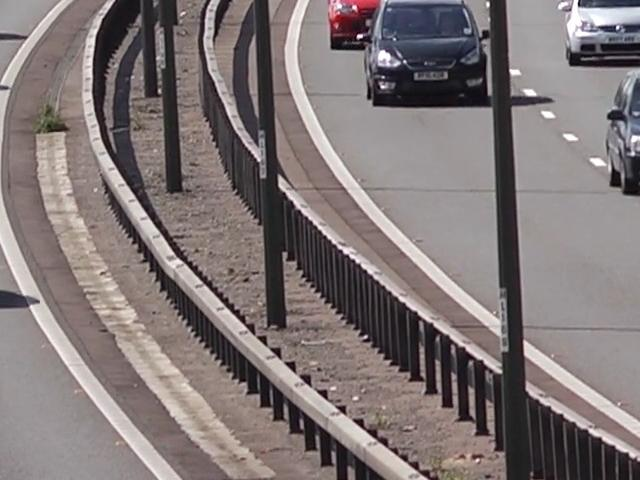car: (376, 0, 489, 105), (601, 63, 640, 193), (571, 0, 640, 66), (331, 0, 428, 41)
